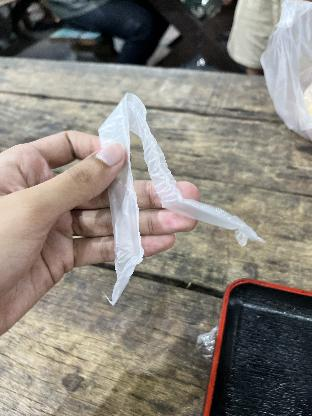Others: (84, 86, 260, 306)
